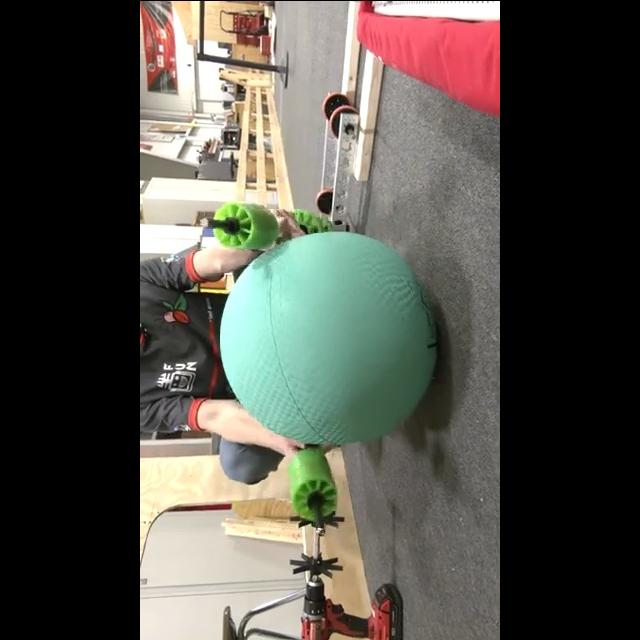ALGAE: (218, 229, 438, 447)
